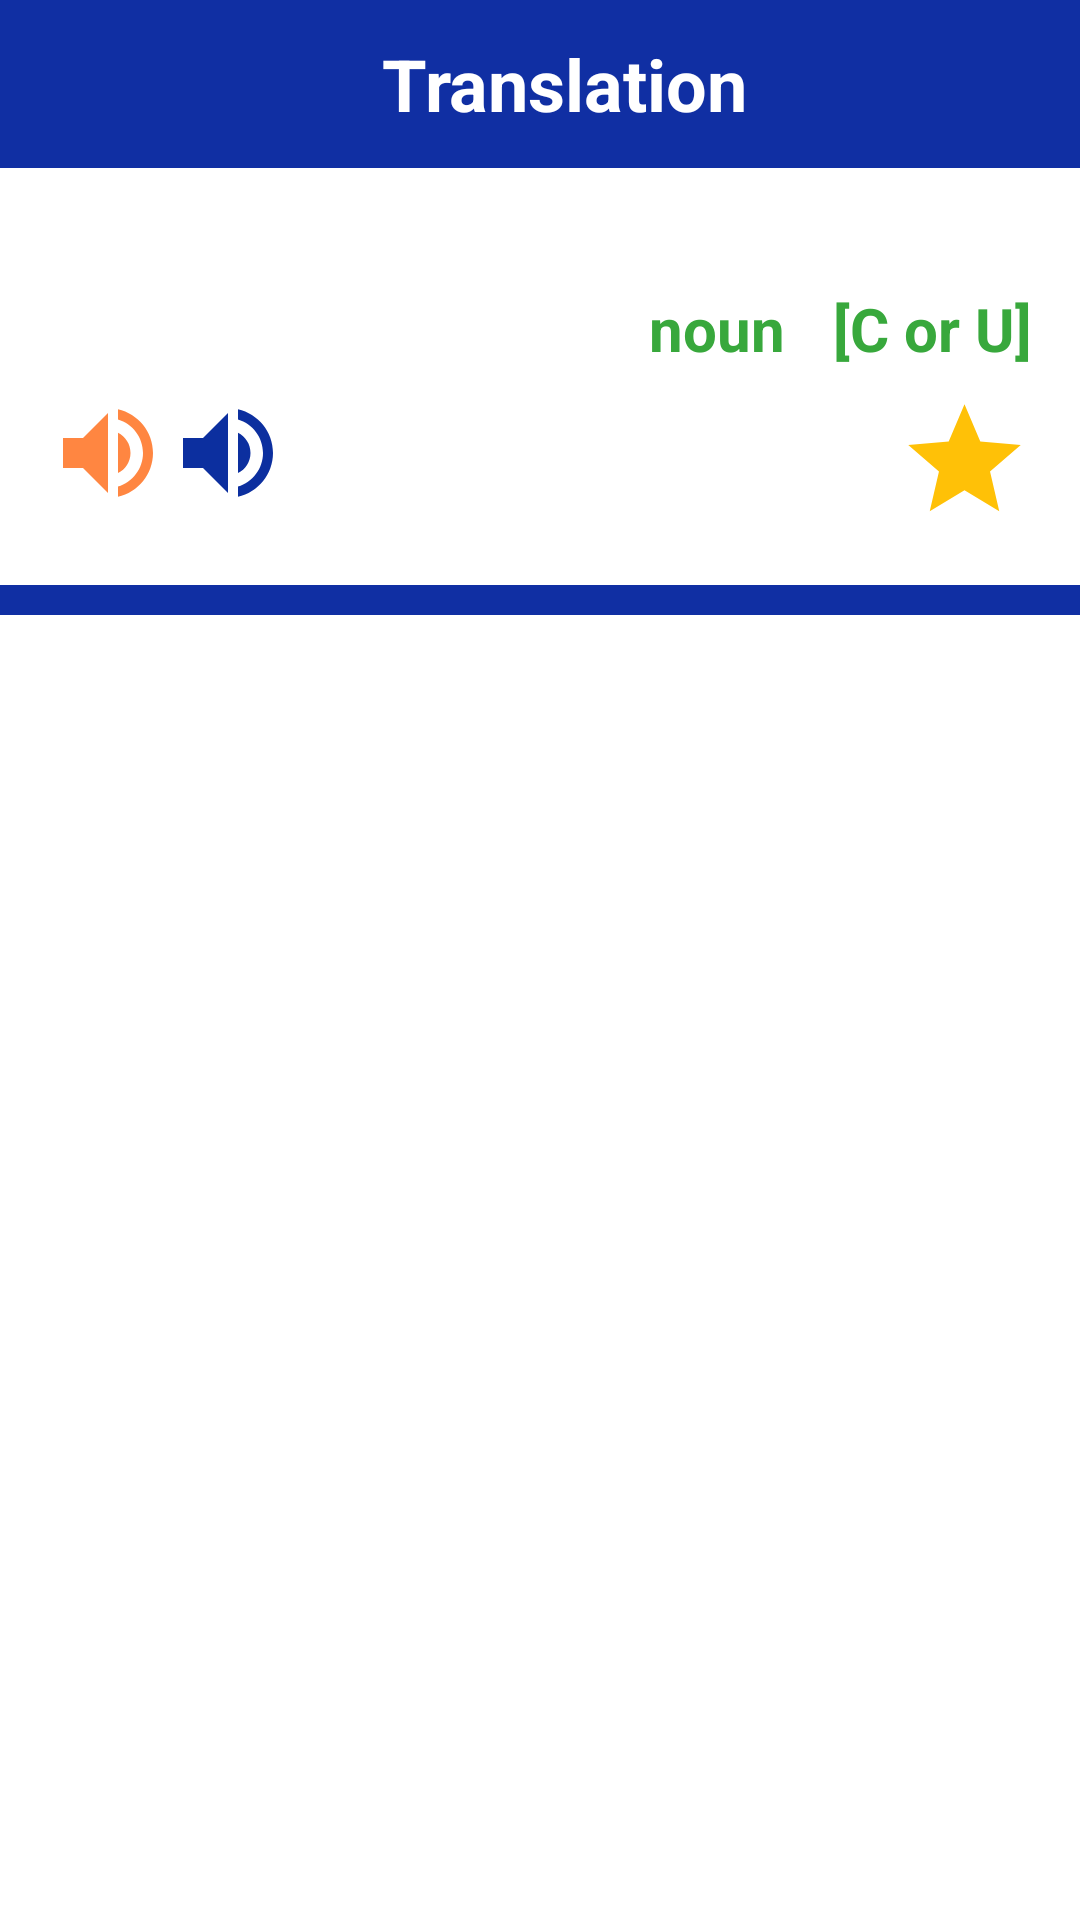

Icons on this 1080px×1920px Android screen, each with the point to tap as point (x, y):
star: point (964, 457)
volume up: point (108, 453)
volume up us: point (228, 453)
